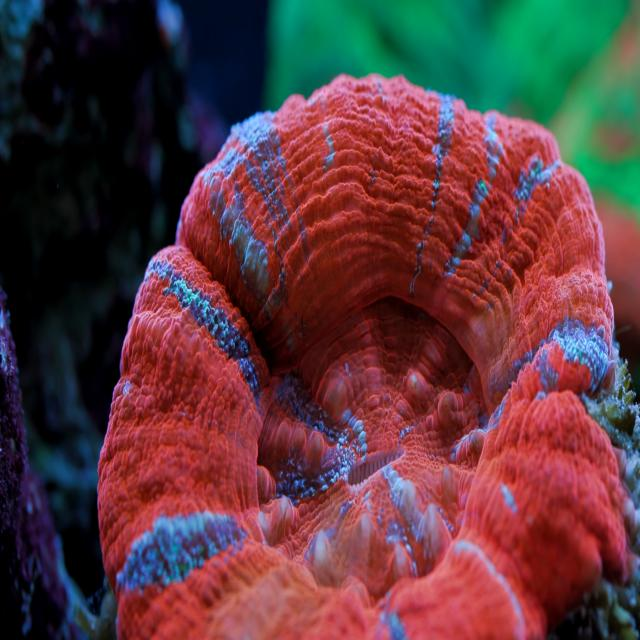Scolymia-Vitiensis -Poisonous-: (97, 74, 640, 640)
